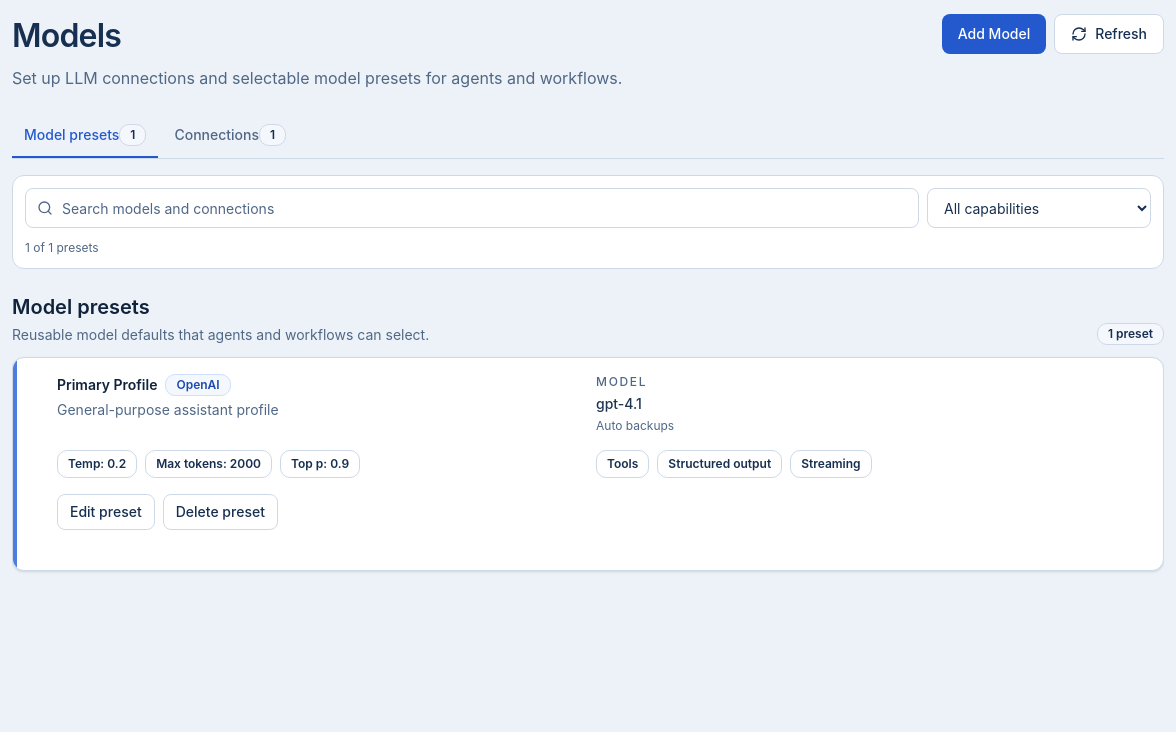
Test: BehaviorProfilesWorkspace › filters models and endpoints without modifying their configuration
Expected: the text "Primary Profile" is shown, [57,375,158,395]
Type "api.openai.com" into the search field labelled "Search models and connections" at (472, 208), box [25,188,919,228]
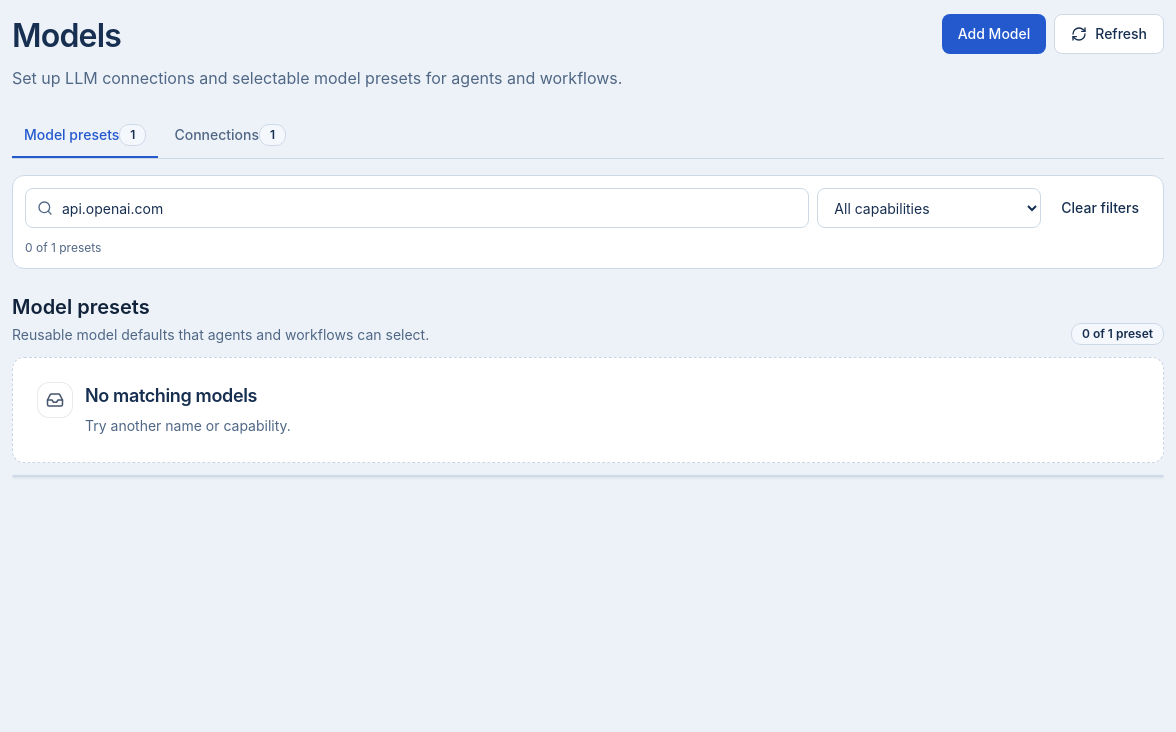
Expected: the heading "No matching models" is shown, [85,385,257,406]
Replace the text in the search field named "Search models and connections" with "missing-provider" at (417, 208), box [25,188,809,228]
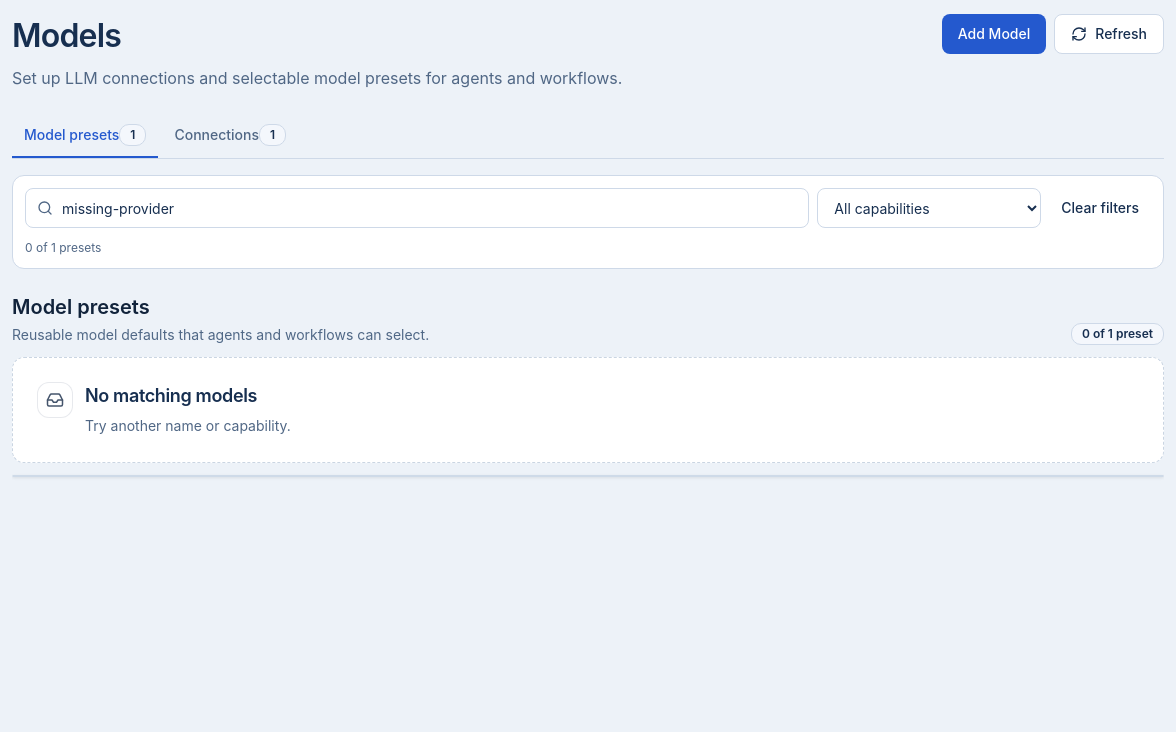
Expected: the heading "No matching models" is shown, [85,385,257,406]
Click the button "Clear filters" at (1100, 208), box [1049,190,1151,226]
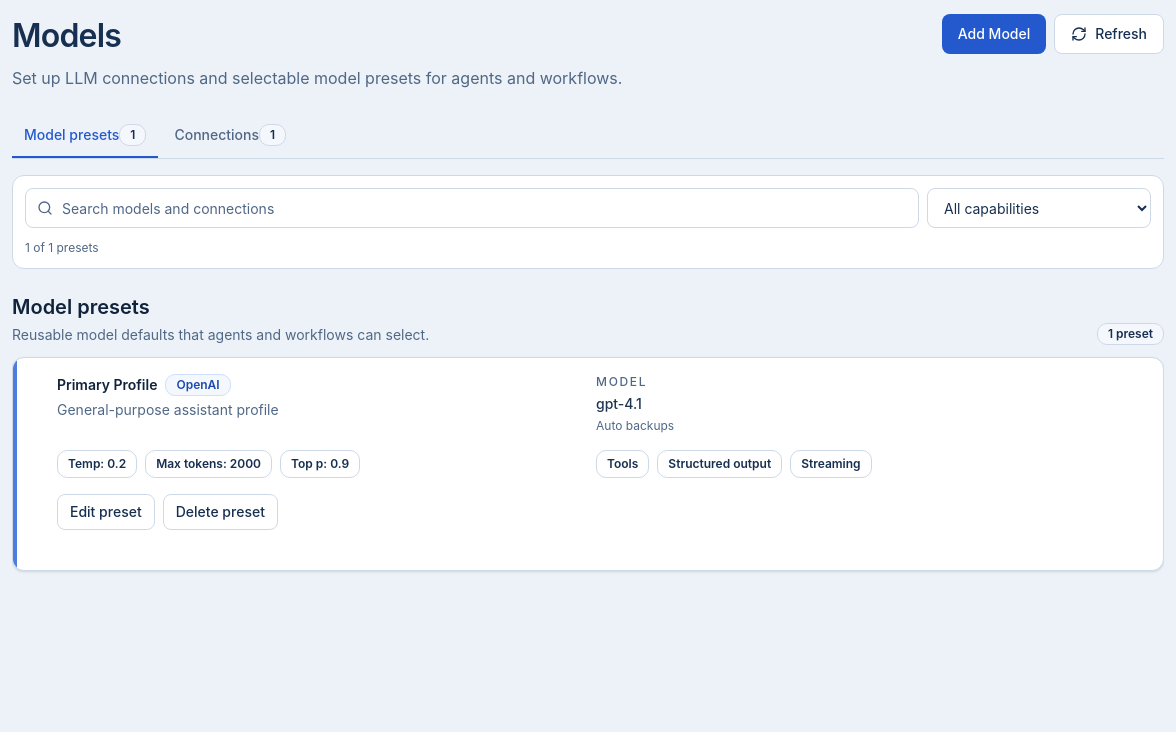
Expected: the text "Primary Profile" is shown, [57,375,158,395]
